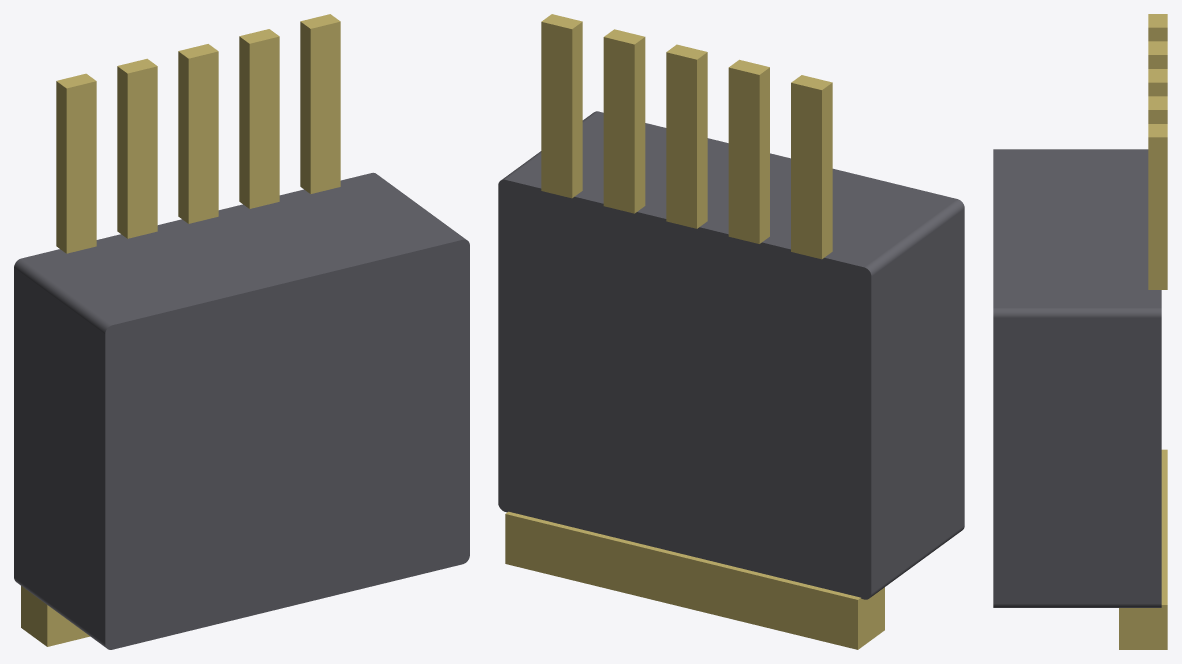
3 renders of one model, left to right at view 1: azimuth 30°, elevation 25°; view 2: azimuth 150°, elevation 25°; view 3: azimuth 270°, elevation 25°, orthographic. The views are drawn at different scales.
Parts seen in each view (by area): view 1: extra, pins; view 2: extra, pins; view 3: extra, pins.
Part boxes in pixels (bbox=[...]): extra: bbox=[14, 172, 469, 649]; pins: bbox=[21, 14, 340, 646]; extra: bbox=[498, 111, 964, 599]; pins: bbox=[505, 14, 884, 649]; extra: bbox=[993, 149, 1161, 607]; pins: bbox=[1119, 14, 1167, 649].
Size of the model in its own units: 10.16 by 14.33 by 4.55.
